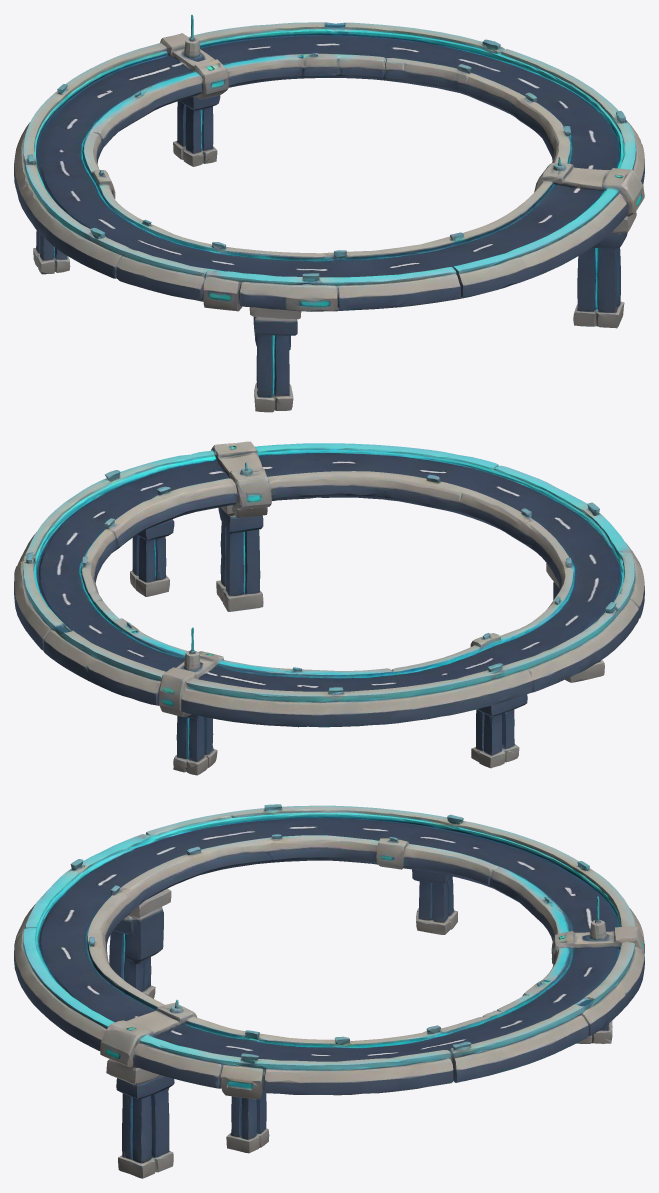
3 views of the same model, one above another, from view 1: azimuth 30°, elevation 25°; view 2: azimuth 150°, elevation 25°; view 3: azimuth 270°, elevation 25° (orthographic).
Visible parts, largest first — view 1: Mesh; view 2: Mesh; view 3: Mesh.
Part boxes in pixels (box(x1,y1,x2,y2)): Mesh: box(14, 14, 644, 412); Mesh: box(14, 441, 644, 775); Mesh: box(14, 804, 644, 1178).
Bounding box in the file's own units: 1.9 × 0.6071 × 1.89.
Materials: 1 (1 with a texture image).
